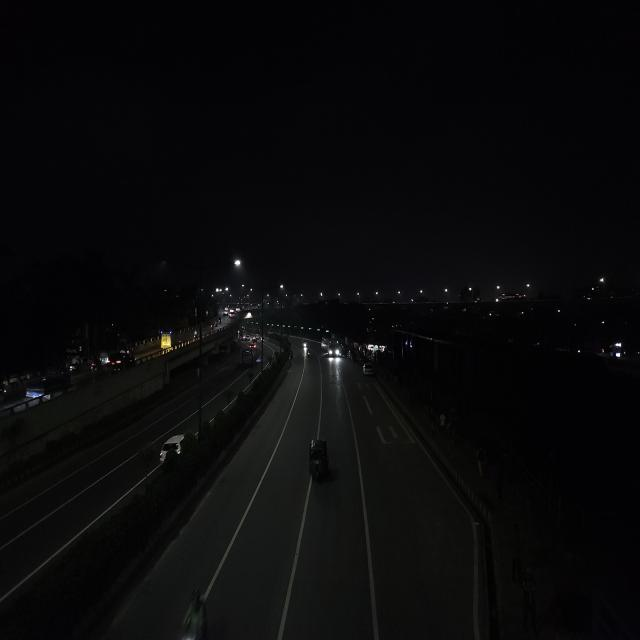bus: (240, 348, 254, 368), (327, 338, 339, 360)
car: (157, 429, 190, 463), (106, 355, 136, 370), (361, 359, 375, 378)
cng: (304, 435, 333, 486)
motorcycle: (173, 581, 217, 640), (307, 349, 311, 358)
pickup_van: (24, 361, 74, 402)
truck: (158, 331, 182, 349)
